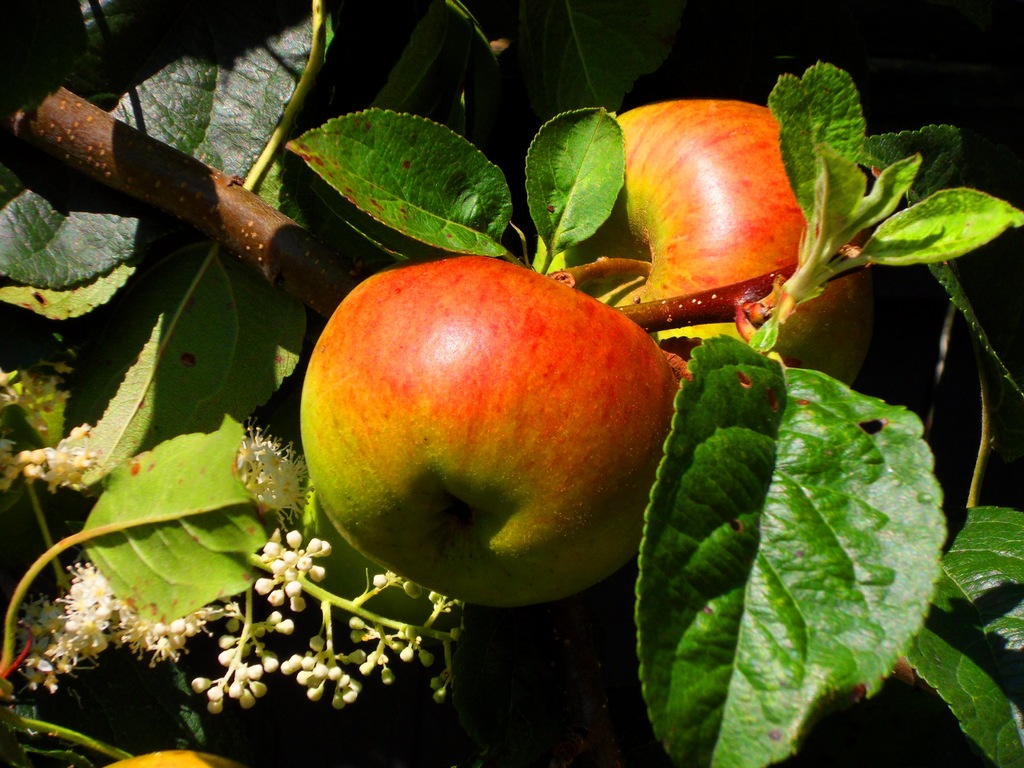Apple: (298, 252, 680, 611), (531, 99, 872, 385), (108, 743, 243, 767)
